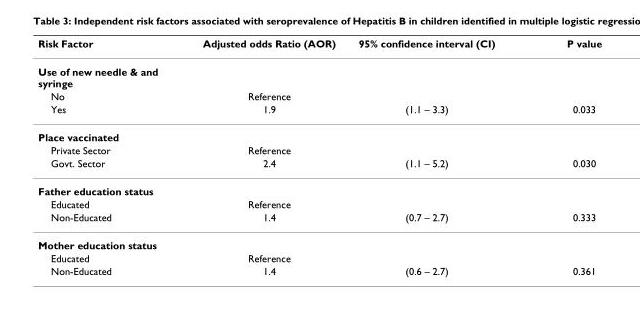table: (37, 36, 601, 276)
table column: (346, 36, 530, 276), (179, 36, 346, 276), (37, 36, 179, 276), (530, 36, 601, 276)
table column header: (37, 36, 601, 56)
table projected row header: (37, 56, 601, 89), (37, 122, 601, 143), (37, 176, 601, 197), (37, 230, 601, 251)
table row: (37, 56, 601, 89), (37, 122, 601, 143), (37, 176, 601, 197), (37, 230, 601, 251), (37, 36, 601, 56), (37, 102, 601, 122), (37, 156, 601, 176), (37, 210, 601, 230), (37, 89, 601, 102), (37, 143, 601, 156), (37, 197, 601, 210), (37, 251, 601, 264), (37, 264, 601, 276)
